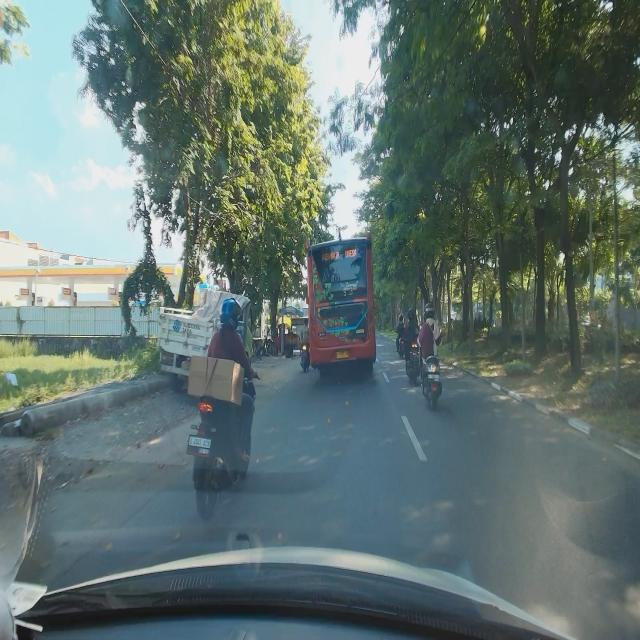bus: (306, 230, 377, 379)
license-plate: (336, 350, 349, 359)
truck: (156, 288, 255, 393)
